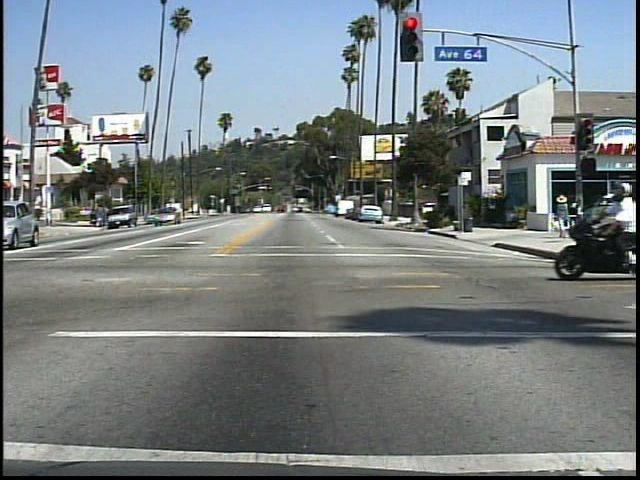person: (553, 190, 575, 243)
